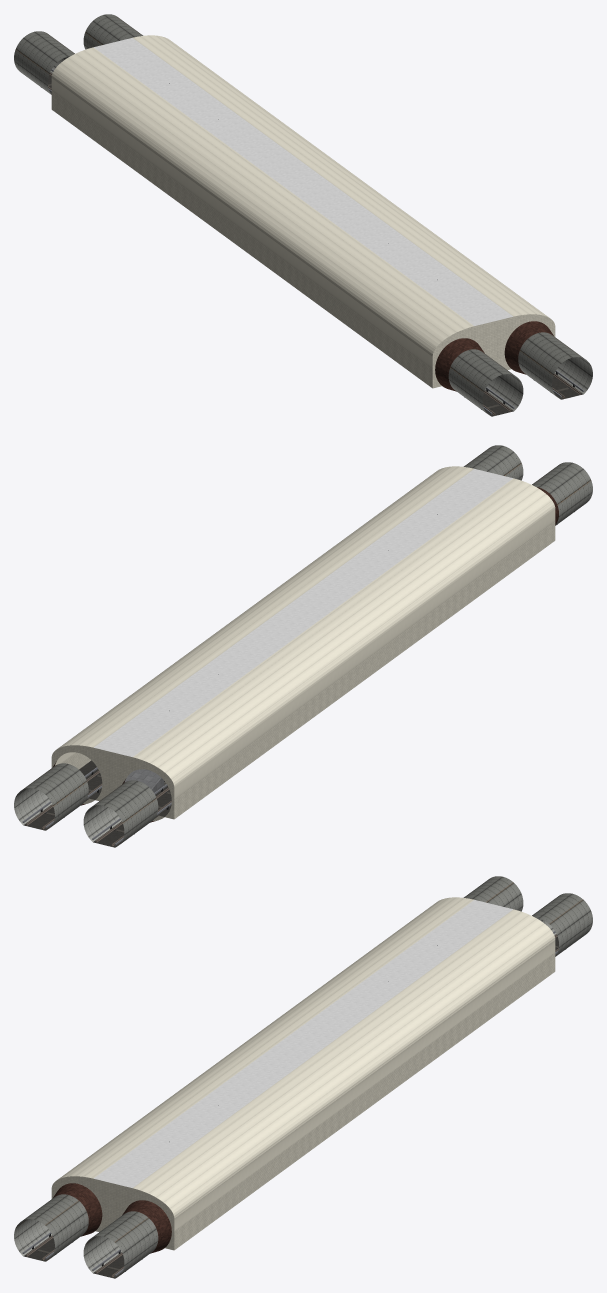
File: station_st-georges-cross.glb
3 renders of one model, top to bottom at view 1: azimuth 30°, elevation 25°; view 2: azimuth 150°, elevation 25°; view 3: azimuth 330°, elevation 25°, orthographic.
Parts seen in each view (by area): view 1: hall_shell, end_walls; view 2: hall_shell, end_walls; view 3: hall_shell, end_walls.
Part boxes in pixels (x1,y1,x2,y2): hall_shell: (41, 35, 584, 415); end_walls: (14, 14, 592, 416); hall_shell: (22, 466, 557, 846); end_walls: (14, 445, 592, 847); hall_shell: (22, 897, 565, 1277); end_walls: (14, 876, 592, 1278).
Size of the model in its own units: 10.04 by 4.69 by 66.4.
Materials: 30 (21 with a texture image).
